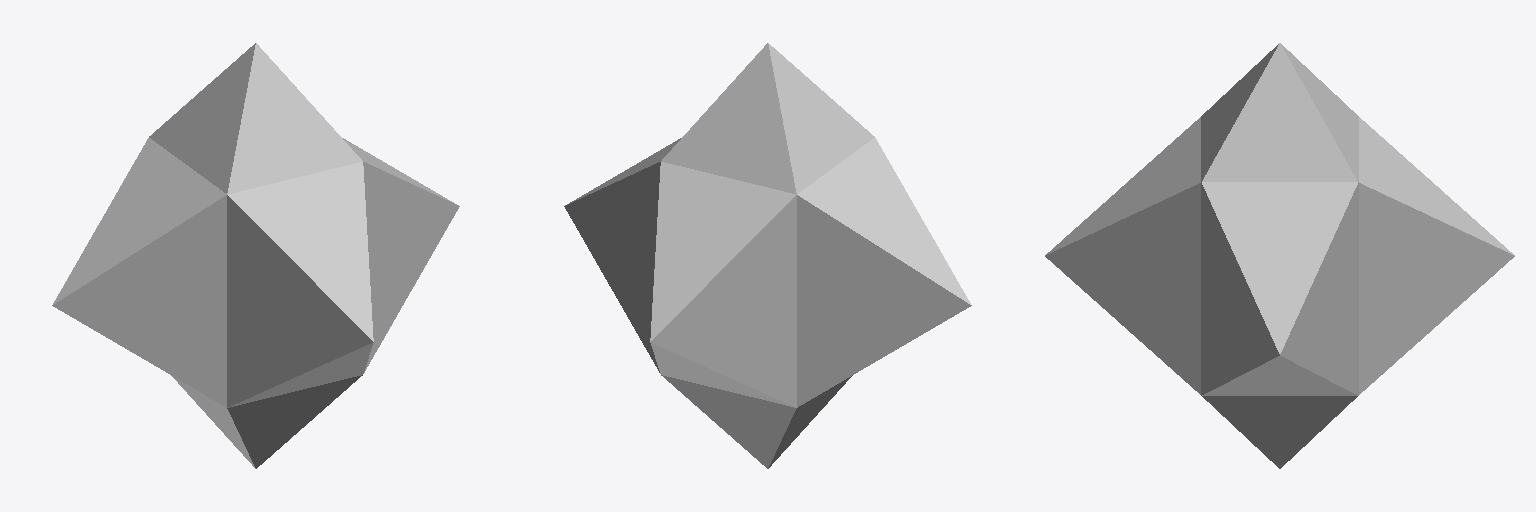
File: eBullet.obj
3 views of the same model, side by side, from view 1: azimuth 30°, elevation 25°; view 2: azimuth 150°, elevation 25°; view 3: azimuth 270°, elevation 25° (orthographic).
Visible parts, largest first — view 1: Cube; view 2: Cube; view 3: Cube.
Part boxes in pixels (left/top/right/bottom): Cube: left=52, top=43, right=459, bottom=468; Cube: left=564, top=43, right=971, bottom=468; Cube: left=1045, top=43, right=1514, bottom=468.
Bounding box in the file's own units: 2 × 2 × 2.